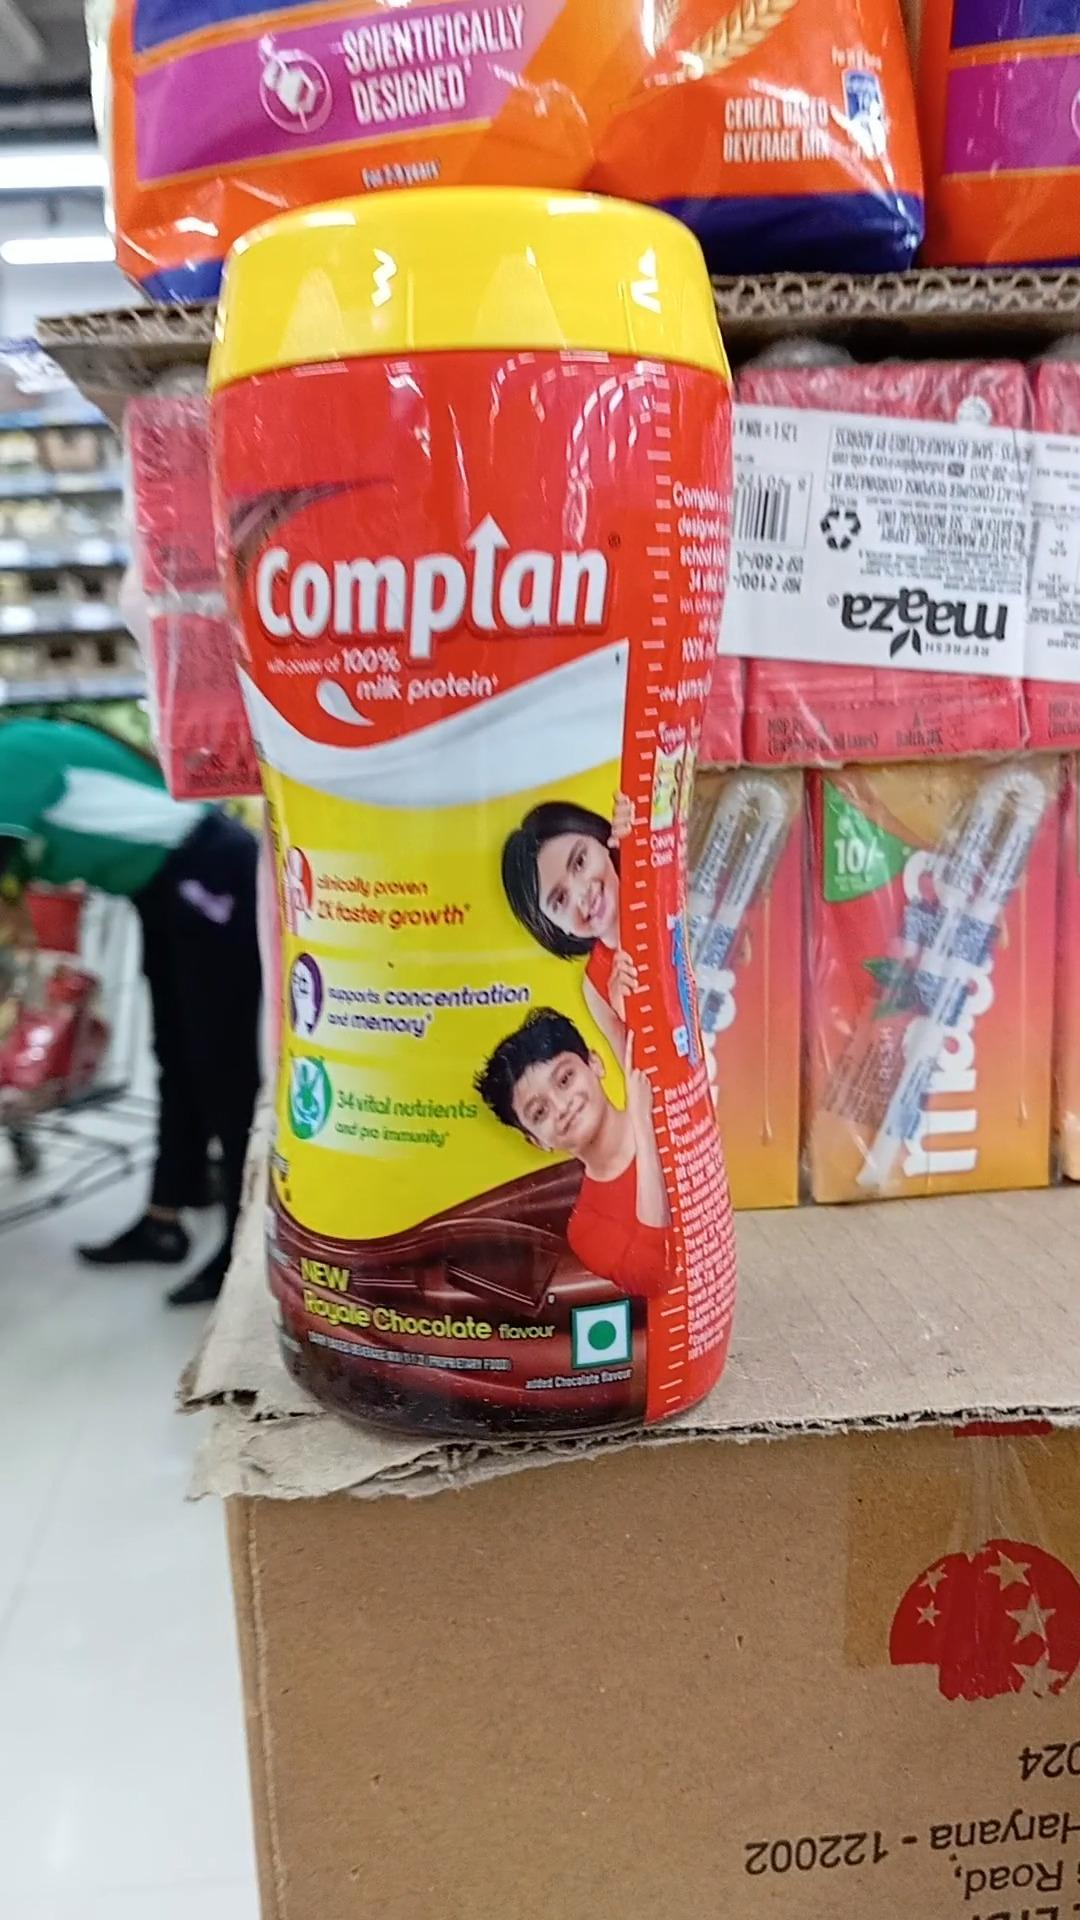COMPLAN_CHOCOLATE_200_GMS_JAR: (229, 195, 725, 1425)
